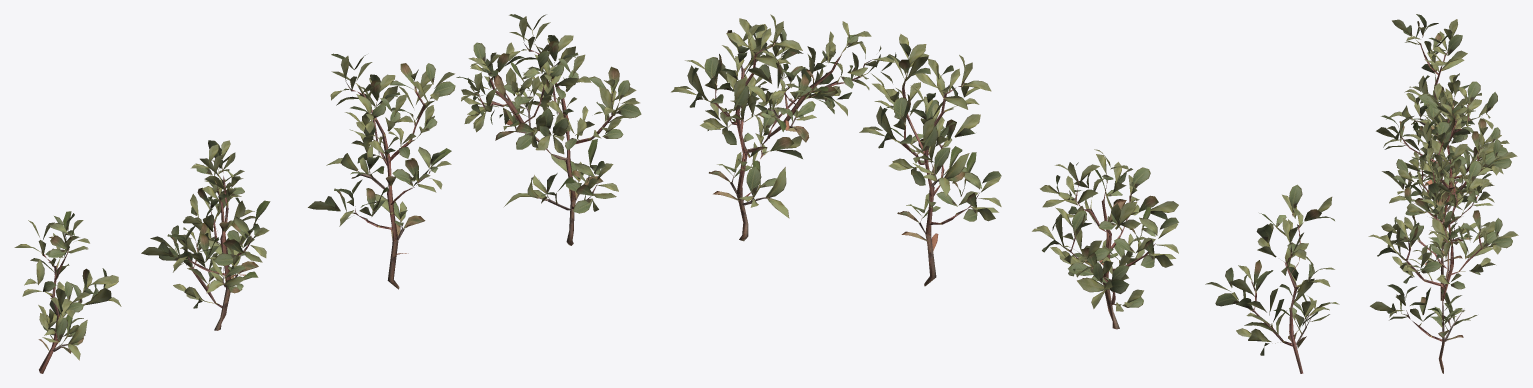
The model's file is shrub_04.glb.
The picture shows the model from 3 angles, left to right: view 1: azimuth 30°, elevation 25°; view 2: azimuth 150°, elevation 25°; view 3: azimuth 270°, elevation 25°; orthographic projection. The views are drawn at different scales.
Size of the model in its own units: 0.5837 by 0.2185 by 0.1461.
Materials: 1 (1 with a texture image).
